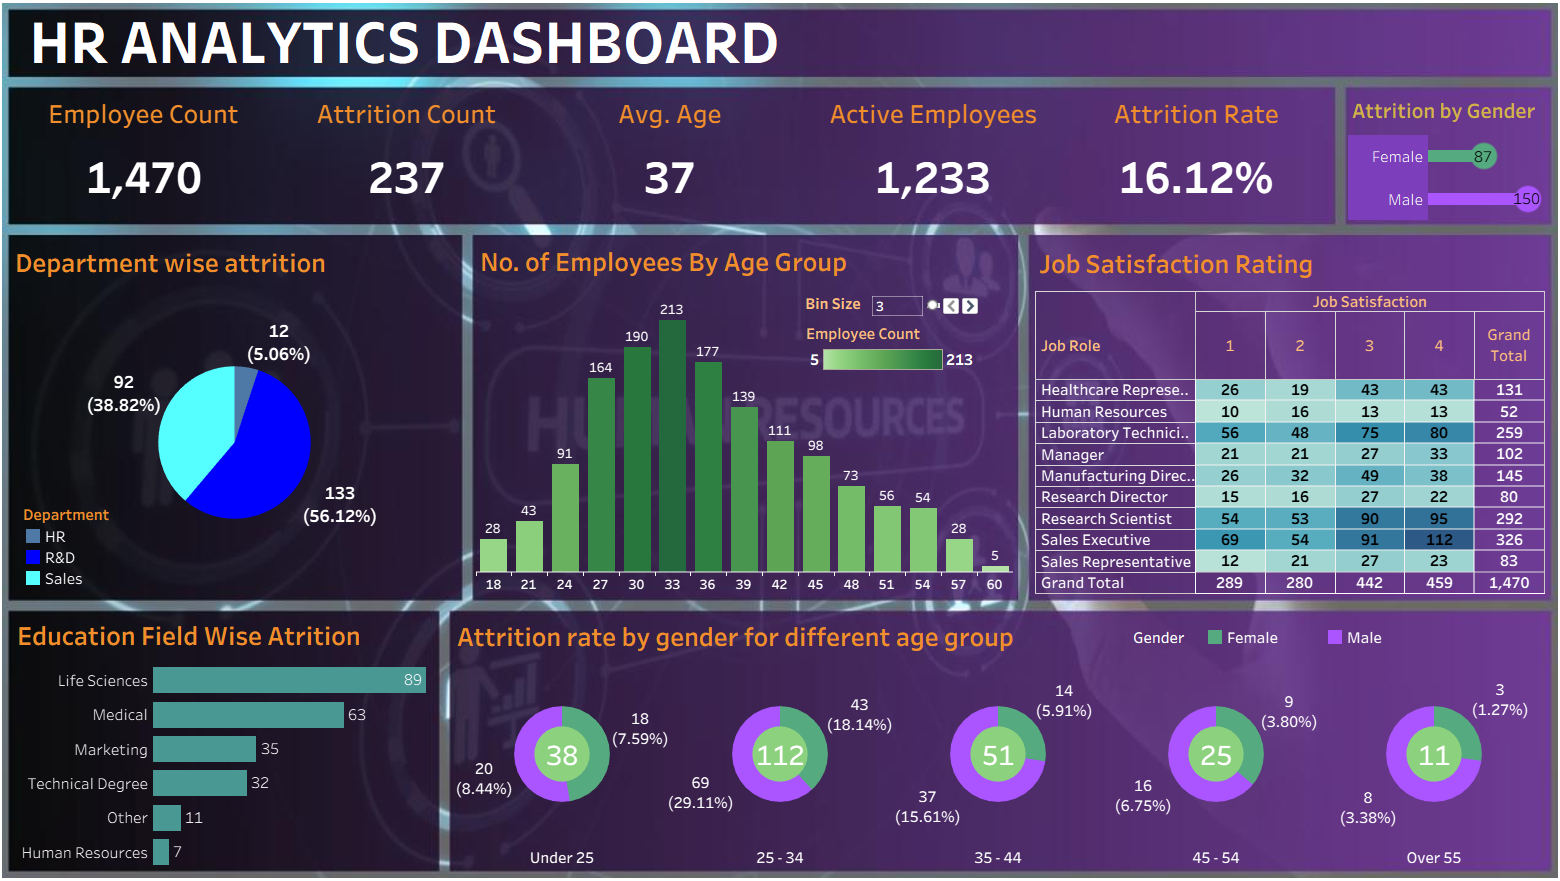

This screenshot's page, from the dashboard's own definition file:
{"tool":"tableau","page":{"name":"Dashboard 1","canvas":[1580,900],"ordinal":0},"visuals":[{"type":"image","param":"Image/HR background.pptx.jpg","box":[8,8,1564,884]},{"type":"text","box":[36,20,1060,58]},{"type":"worksheet","title":"KPI","mark":"Text","box":[22,100,1316,130]},{"type":"worksheet","title":"Attrition by Gender","mark":"Automatic","rows":["Gender"],"cols":["Calculation_536772830780510208","Calculation_536772830780510208"],"box":[1358,101,199,128]},{"type":"worksheet","title":"No. of Employees By Age Group","mark":"Automatic","rows":["Employee Count"],"cols":["Age (bin)"],"box":[486,249,537,354]},{"type":"worksheet","title":"Department wise attrition","mark":"Pie","box":[21,250,447,354]},{"type":"worksheet","title":"Job Satisfaction Rating","mark":"Square","rows":["Job Role"],"cols":["Job Satisfaction"],"box":[1045,251,510,352]},{"type":"parameter","param":"[Parameters].[Parameter 1]","box":[807,302,184,24]},{"type":"legend","title":"No. of Employees By Age Group","param":"[federated.1hfwz1n02mebdt1c8nkze1d1jdgr].[sum:Employee Count:qk]","box":[816,332,172,51]},{"type":"legend","title":"Department wise attrition","param":"[federated.1hfwz1n02mebdt1c8nkze1d1jdgr].[none:Department:nk]","box":[33,513,140,85]},{"type":"worksheet","title":"Education Field Wise Atrition  ","mark":"Automatic","rows":["Education Field"],"cols":["Calculation_536772830780510208"],"box":[23,623,422,255]},{"type":"worksheet","title":"Attrition rate by gender for different age group","mark":"Pie","rows":["Calculation_1009932268323311618","Calculation_1009932268323311618"],"cols":["CF_age band"],"box":[463,624,1090,254]},{"type":"legend","title":"Attrition rate by gender for different age group","param":"[federated.1hfwz1n02mebdt1c8nkze1d1jdgr].[none:Gender:nk]","box":[1143,636,320,30]}]}

Visuals, with their boxes in screenshot pixels (x1, y1, x2, y2), scaled from the page's 1580x900 canvas onto the 1560x881 screenshot:
image: x1=8 y1=8 x2=1552 y2=873
text: x1=36 y1=20 x2=1082 y2=76
"KPI" worksheet (Text marks): x1=22 y1=98 x2=1321 y2=225
"Attrition by Gender" worksheet: x1=1341 y1=99 x2=1537 y2=224
"No. of Employees By Age Group" worksheet: x1=480 y1=244 x2=1010 y2=590
"Department wise attrition" worksheet (Pie marks): x1=21 y1=245 x2=462 y2=591
"Job Satisfaction Rating" worksheet (Square marks): x1=1032 y1=246 x2=1535 y2=590
parameter: x1=797 y1=296 x2=978 y2=319
"No. of Employees By Age Group" legend: x1=806 y1=325 x2=975 y2=375
"Department wise attrition" legend: x1=33 y1=502 x2=171 y2=585
"Education Field Wise Atrition  " worksheet: x1=23 y1=610 x2=439 y2=859
"Attrition rate by gender for different age group" worksheet (Pie marks): x1=457 y1=611 x2=1533 y2=859
"Attrition rate by gender for different age group" legend: x1=1129 y1=623 x2=1444 y2=652
